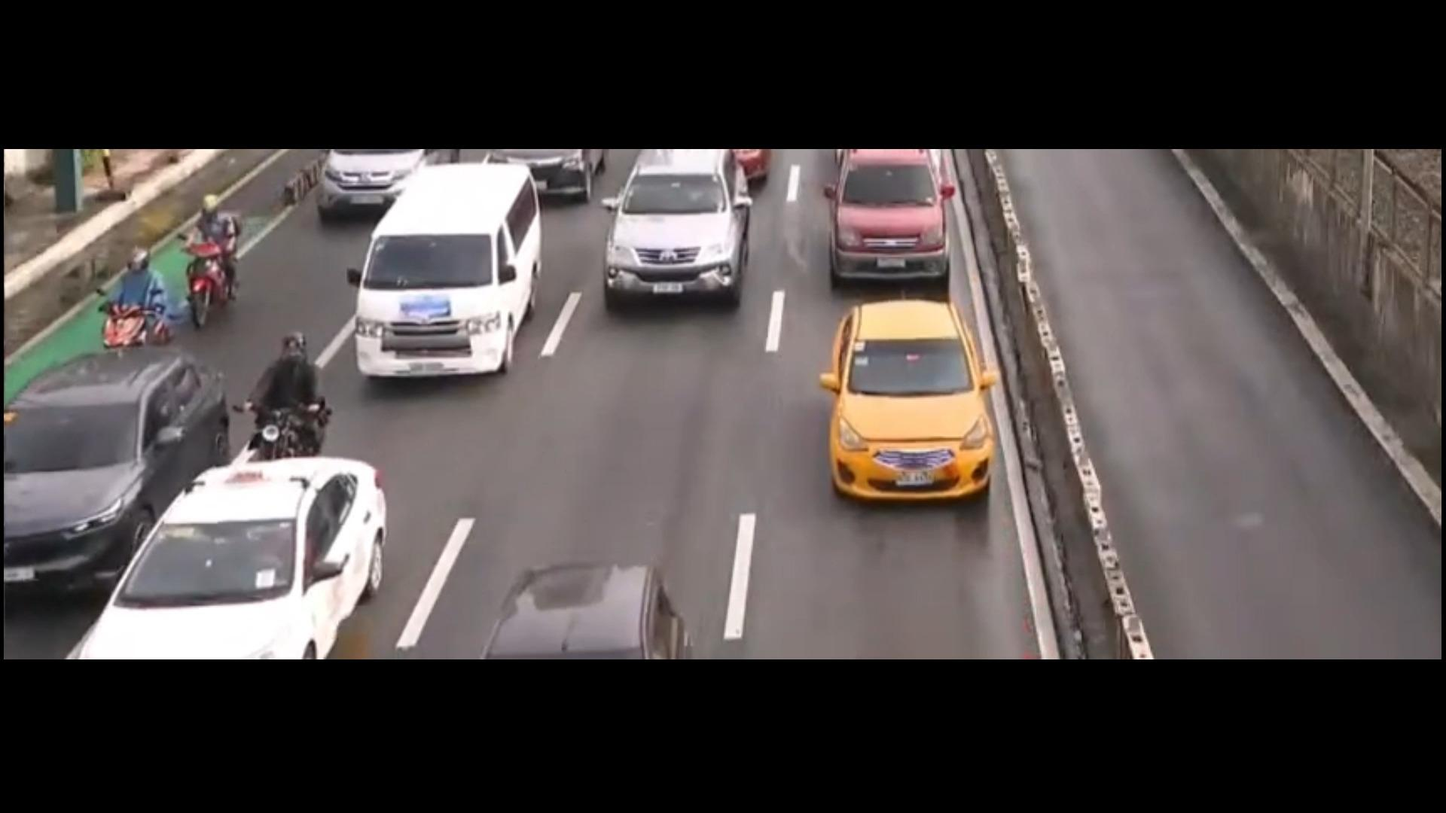Motorcycle: (233, 327, 331, 466), (95, 234, 167, 364), (178, 187, 238, 340)
SUV: (589, 149, 759, 311), (819, 148, 958, 291)
Sedan: (59, 459, 388, 657), (2, 350, 230, 601), (827, 301, 997, 499)
Van: (352, 164, 538, 381)
